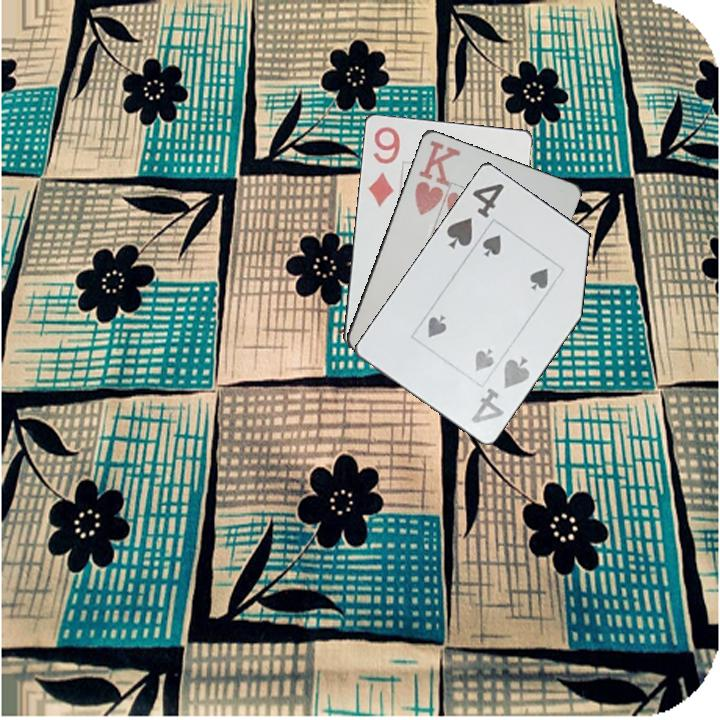4s: (467, 353, 533, 426), (442, 179, 507, 251)
9d: (363, 123, 403, 210)
Kh: (411, 136, 462, 218)
